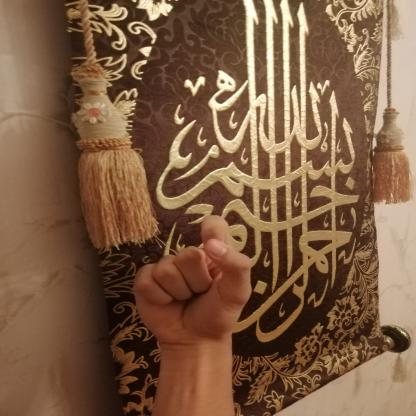FAA: (120, 207, 266, 357)
